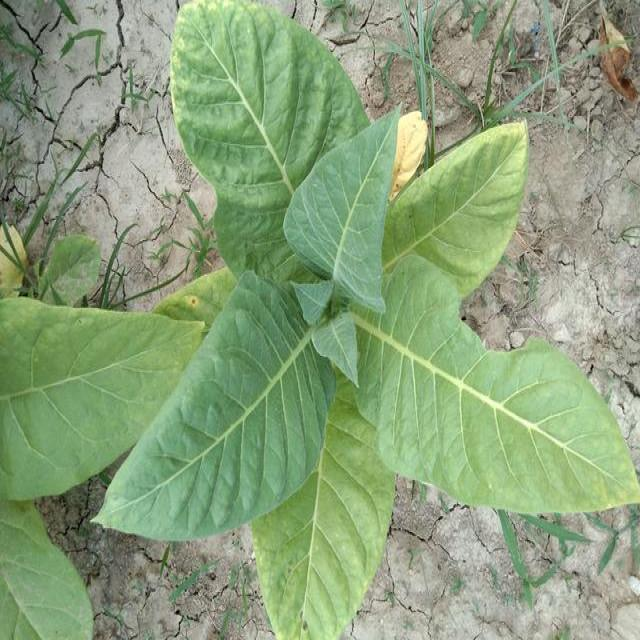crop: (97, 0, 640, 635)
